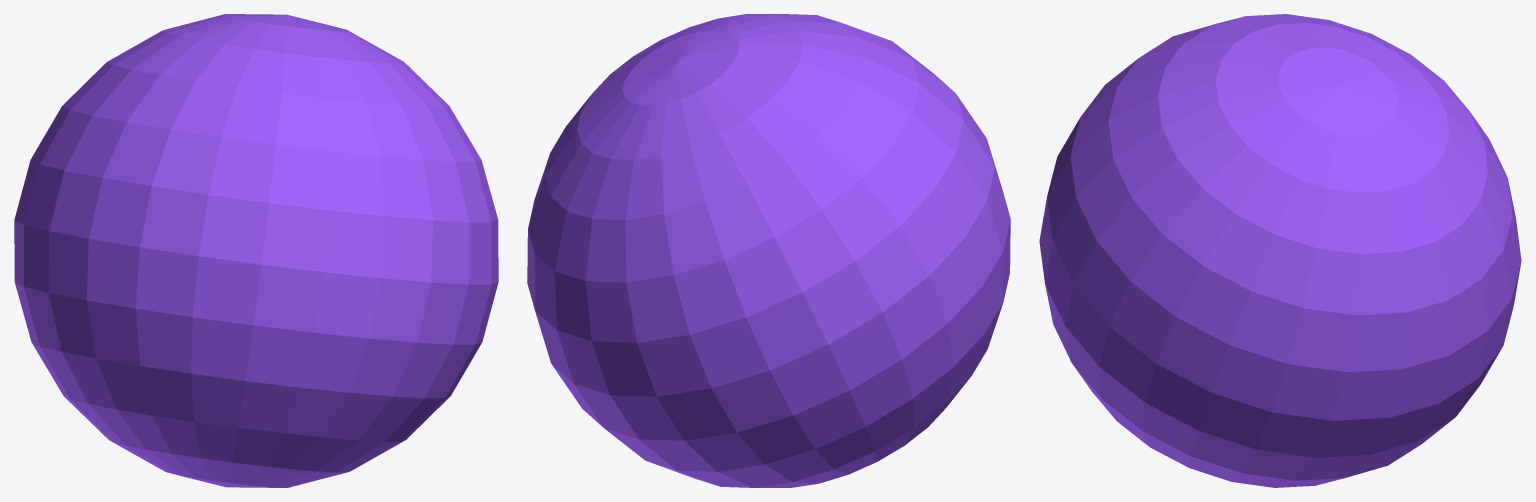
Rendered from ball1.obj.
The picture shows the model from 3 angles, left to right: view 1: azimuth 30°, elevation 25°; view 2: azimuth 150°, elevation 25°; view 3: azimuth 270°, elevation 25°; orthographic projection. The views are drawn at different scales.
Visible parts, largest first — view 1: Object_241; view 2: Object_241; view 3: Object_241.
Boxes of the visible parts, x1,y1,x2,y2 form: Object_241: (14, 14, 498, 487); Object_241: (527, 14, 1010, 487); Object_241: (1039, 14, 1521, 487).
Bounding box in the file's own units: 0.0301 × 0.0294 × 0.0303.
